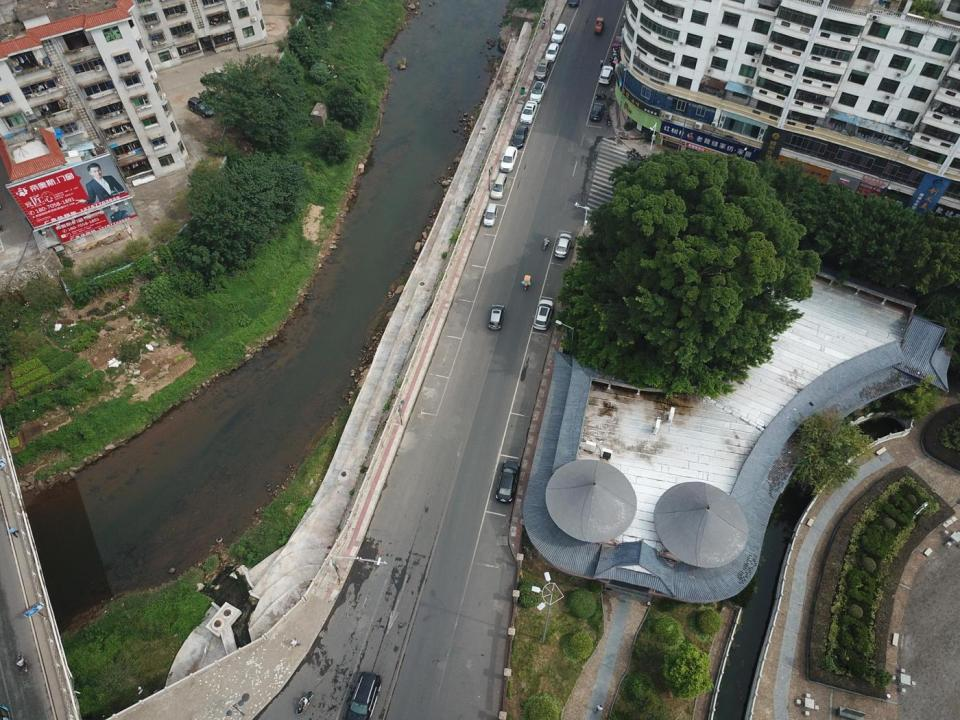car: (345, 672, 382, 720), (496, 459, 520, 503), (533, 299, 554, 331), (187, 96, 216, 117), (209, 74, 240, 90), (488, 304, 506, 330), (554, 233, 572, 259), (490, 173, 508, 199), (500, 146, 518, 172), (199, 89, 228, 104), (520, 100, 538, 124), (511, 124, 528, 148), (550, 24, 568, 44), (529, 81, 546, 102), (483, 203, 498, 226), (535, 58, 550, 80), (590, 102, 605, 121), (544, 43, 559, 62), (599, 65, 613, 85), (612, 34, 624, 49)
truck: (594, 17, 604, 34)
